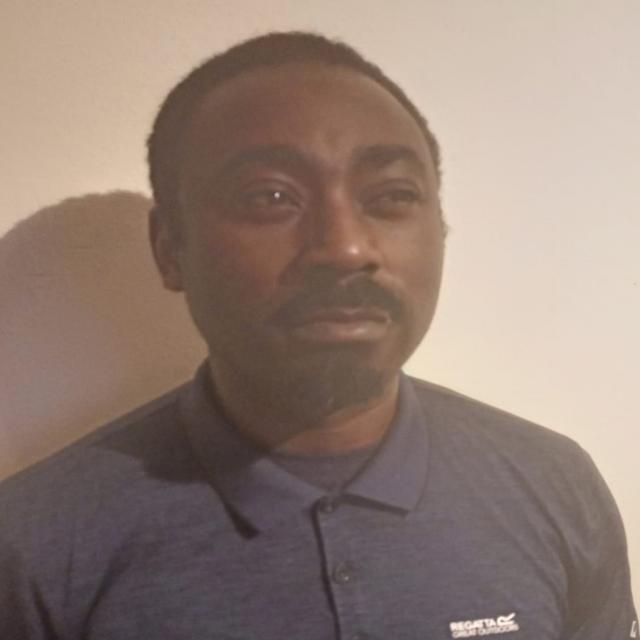sad: (143, 23, 449, 420)
